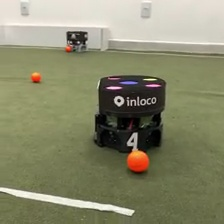ball: (125, 148, 152, 175), (30, 70, 42, 83), (65, 44, 72, 51)
goal: (1, 24, 109, 51)
robot: (91, 72, 168, 154), (65, 29, 89, 54)
